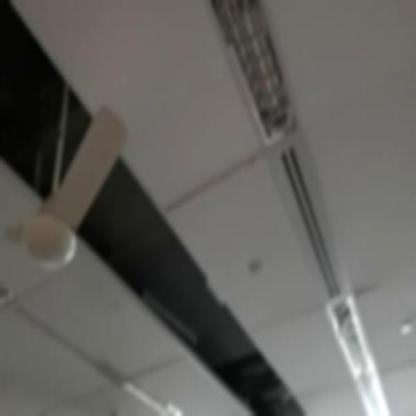light_off: (193, 0, 319, 156), (318, 271, 395, 415)
